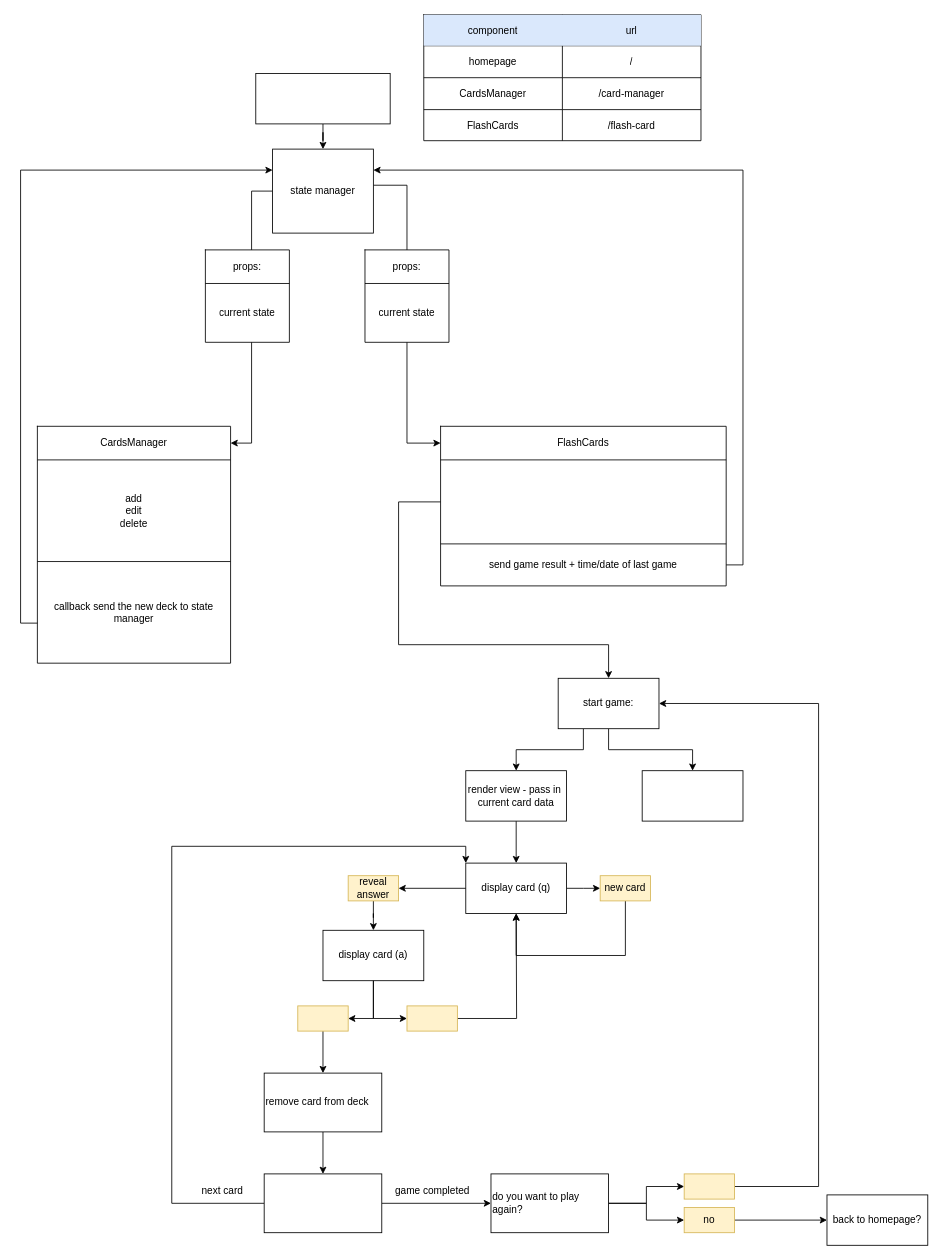
The diagram is 942 pixels wide and 1260 high, and some of its shapes have lost their labels. The shapes that lost their labels are listed below. From the top down, each one's box as (x1, y1, x2, y2) in pixels, then its label:
(255, 73, 390, 124): App
(641, 770, 743, 821): randomize deck
(297, 1005, 348, 1031): right
(406, 1005, 457, 1031): wrong
(263, 1173, 382, 1233): update progress: up counter check if complete game
(683, 1173, 735, 1199): yes
